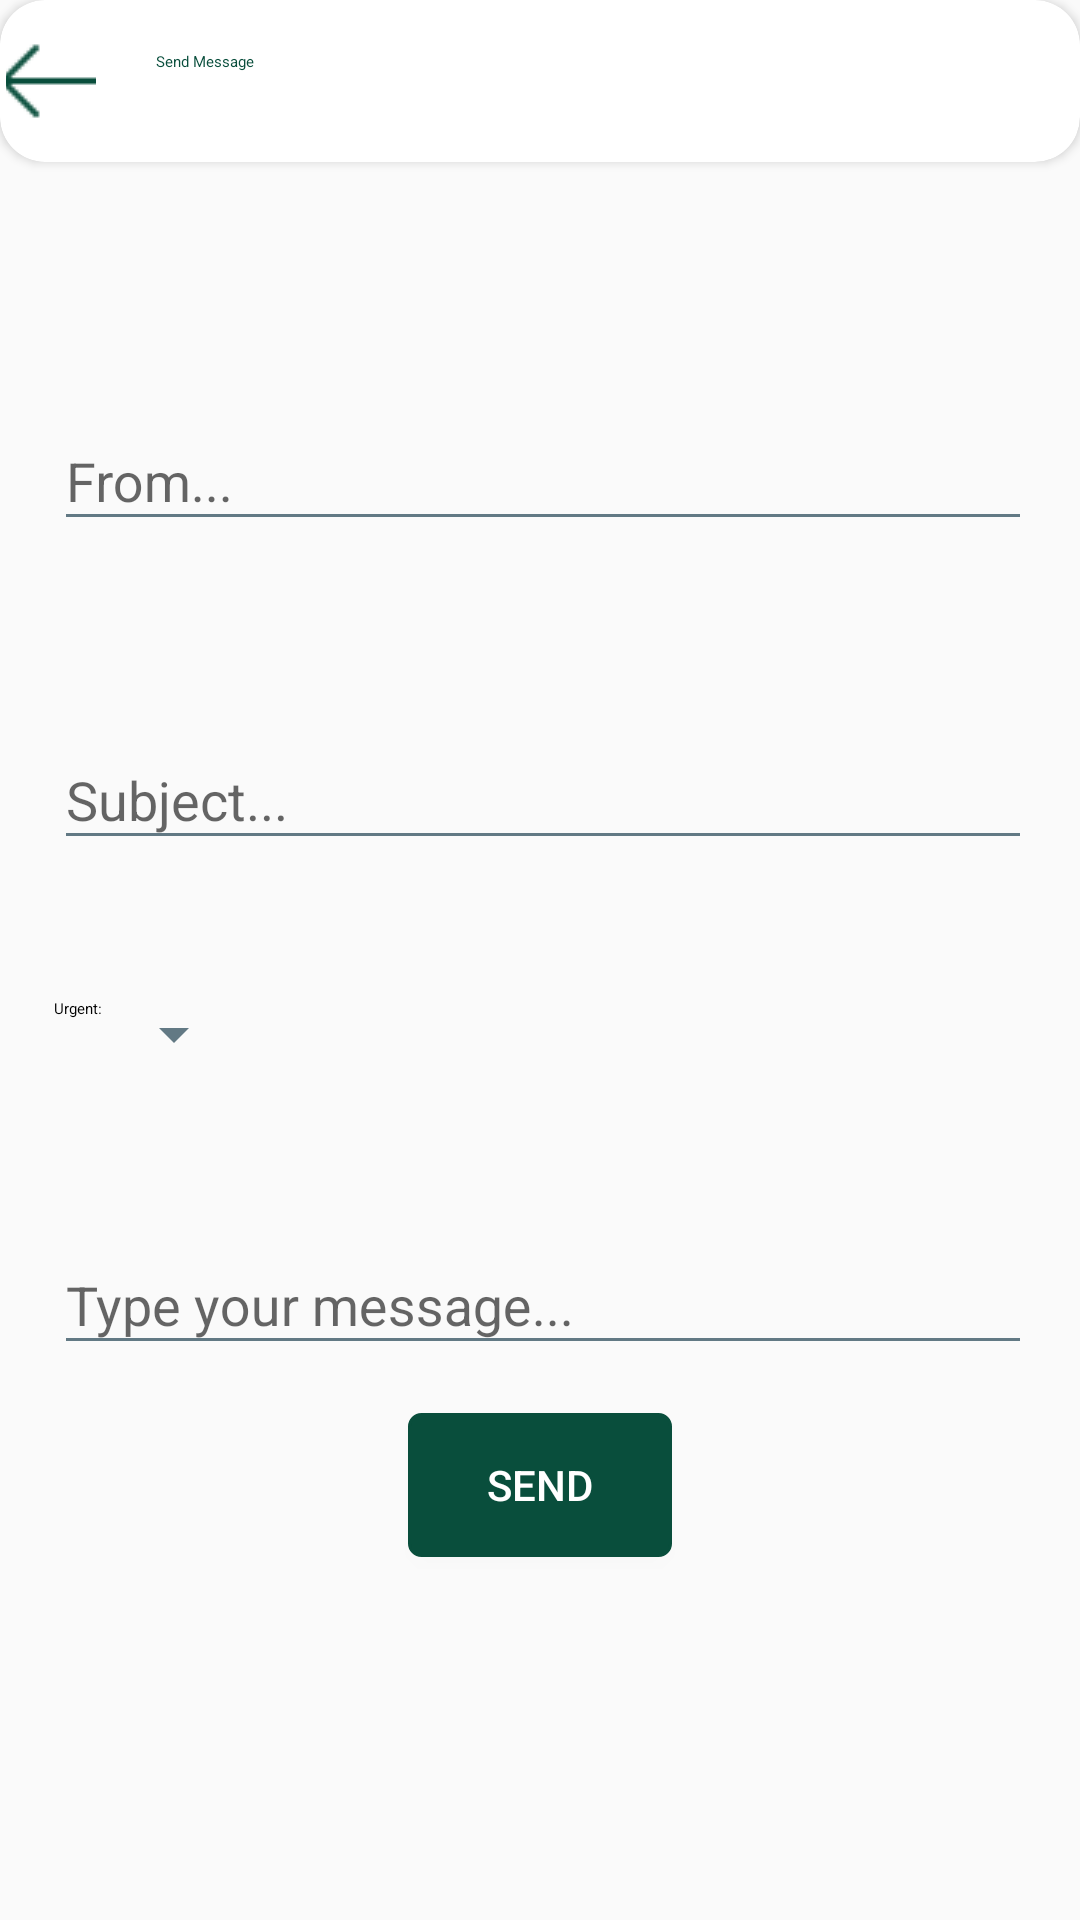

Where icons sit on this 1080px x 1920px app screen, as (x1, y1, x2, y2):
leftarrow: (6, 44, 96, 118)
